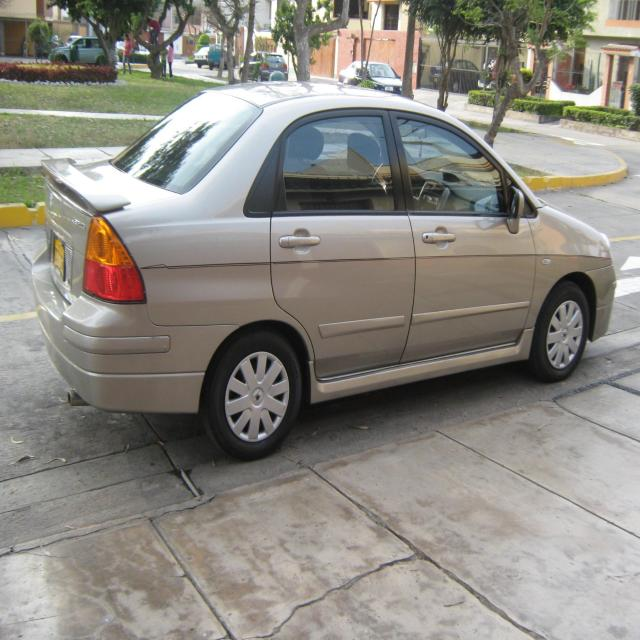Car: (5, 37, 626, 455)
